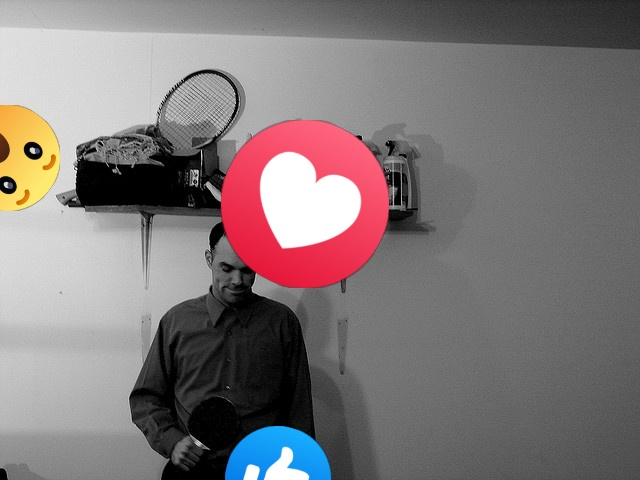like: (225, 426, 331, 480)
love: (221, 120, 389, 288)
wow: (0, 105, 60, 211)
